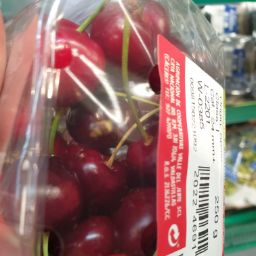Cherry: (32, 15, 158, 256), (27, 9, 113, 118), (45, 201, 154, 254), (61, 133, 131, 205), (15, 164, 83, 232), (87, 1, 155, 68)
